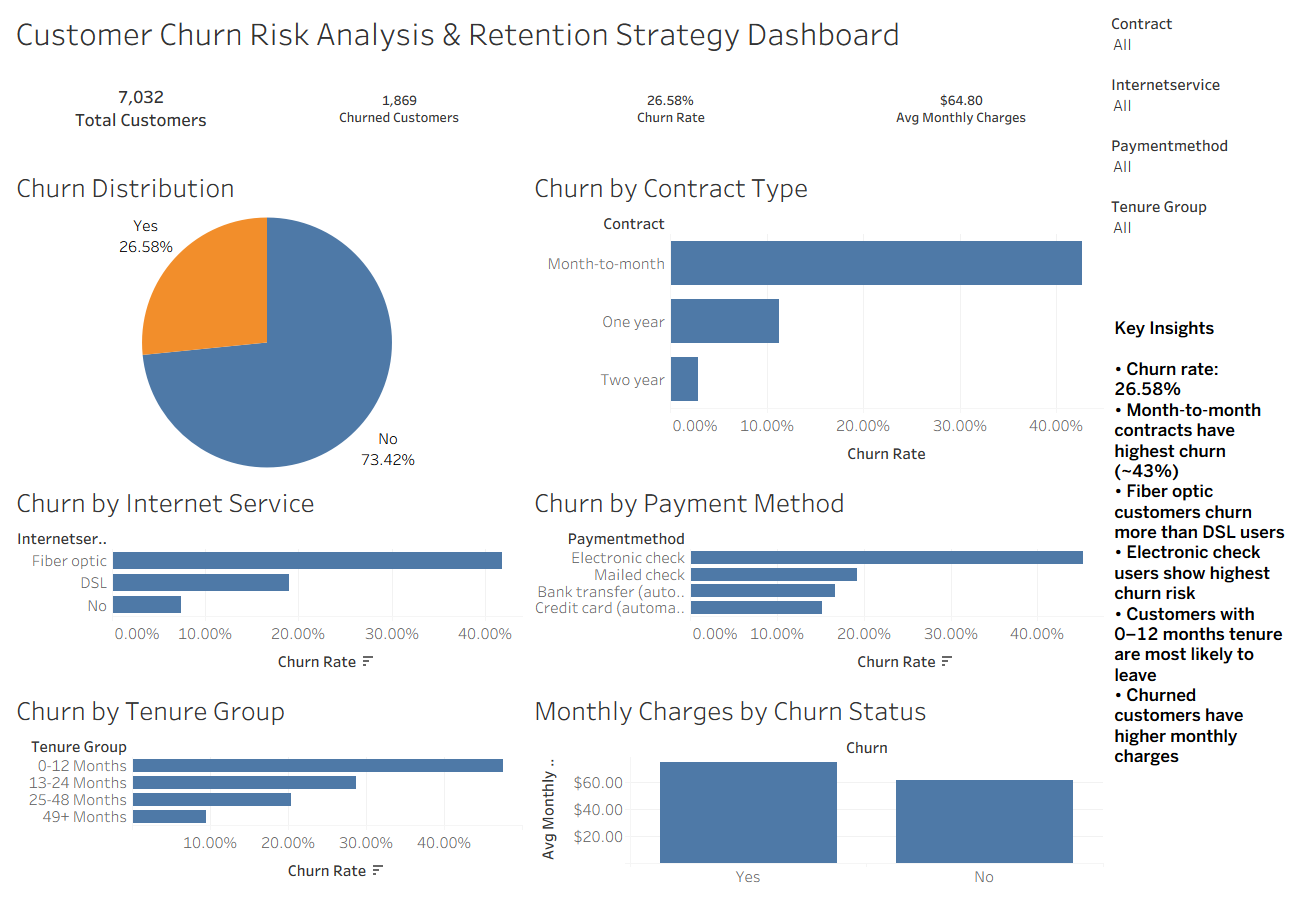

Layout of this report page (visuals, bound fields, positions):
{"tool":"tableau","page":{"name":"Customer Churn Risk Analysis & Retention Strategy Dashboard","canvas":[1300,900],"ordinal":0},"visuals":[{"type":"title","box":[8,8,1099,50]},{"type":"filter","title":"Churn by Contract Type","param":"[federated.1osf88f095mz5p19otkfn0s0m76i].[none:contract:nk]","box":[1107,8,185,61]},{"type":"worksheet","title":"KPI - Total Customers","mark":"Automatic","box":[8,58,266.2,102]},{"type":"worksheet","title":"KPI - Churned Customers","mark":"Automatic","box":[274.2,58,252,102]},{"type":"worksheet","title":"KPI - Churn Rate","mark":"Automatic","box":[526.2,58,290.4,102]},{"type":"worksheet","title":"KPI - Avg Monthly Charges","mark":"Automatic","box":[816.6,58,290.4,102]},{"type":"filter","title":"Churn by Internet Service","param":"[federated.1osf88f095mz5p19otkfn0s0m76i].[none:internetservice:nk]","box":[1107,69,185,61]},{"type":"filter","title":"Churn by Payment Method","param":"[federated.1osf88f095mz5p19otkfn0s0m76i].[none:paymentmethod:nk]","box":[1107,130,185,61]},{"type":"worksheet","title":"Churn Distribution","mark":"Pie","box":[8,160,518.2,314.9]},{"type":"worksheet","title":"Churn by Contract Type","mark":"Automatic","rows":["contract"],"cols":["Calculation_1459887922466818"],"box":[526.2,160,580.8,314.9]},{"type":"filter","title":"Churn by Tenure Group","param":"[federated.1osf88f095mz5p19otkfn0s0m76i].[none:tenure_group:nk]","box":[1107,191,185,61]},{"type":"text","box":[1107,252,185,533]},{"type":"worksheet","title":"Churn by Internet Service","mark":"Automatic","rows":["internetservice"],"cols":["Calculation_1459887922466818"],"box":[8,474.9,518.2,208.5]},{"type":"worksheet","title":"Churn by Payment Method","mark":"Automatic","rows":["paymentmethod"],"cols":["Calculation_1459887922466818"],"box":[526.2,474.9,580.8,208.5]},{"type":"worksheet","title":"Churn by Tenure Group","mark":"Automatic","rows":["tenure_group"],"cols":["Calculation_1459887922466818"],"box":[8,683.4,518.2,208.6]},{"type":"worksheet","title":"Monthly Charges by Churn Status","mark":"Automatic","rows":["Calculation_1459887923990531"],"cols":["churn"],"box":[526.2,683.4,580.8,208.6]}]}

Visuals, with their boxes in screenshot pixels (x1, y1, x2, y2), scaled from the page's 1300x900 canvas onto the 1300x900 screenshot:
title: [8, 8, 1107, 58]
"Churn by Contract Type" filter: [1107, 8, 1292, 69]
"KPI - Total Customers" worksheet: [8, 58, 274, 160]
"KPI - Churned Customers" worksheet: [274, 58, 526, 160]
"KPI - Churn Rate" worksheet: [526, 58, 817, 160]
"KPI - Avg Monthly Charges" worksheet: [817, 58, 1107, 160]
"Churn by Internet Service" filter: [1107, 69, 1292, 130]
"Churn by Payment Method" filter: [1107, 130, 1292, 191]
"Churn Distribution" worksheet (Pie marks): [8, 160, 526, 475]
"Churn by Contract Type" worksheet: [526, 160, 1107, 475]
"Churn by Tenure Group" filter: [1107, 191, 1292, 252]
text: [1107, 252, 1292, 785]
"Churn by Internet Service" worksheet: [8, 475, 526, 683]
"Churn by Payment Method" worksheet: [526, 475, 1107, 683]
"Churn by Tenure Group" worksheet: [8, 683, 526, 892]
"Monthly Charges by Churn Status" worksheet: [526, 683, 1107, 892]
